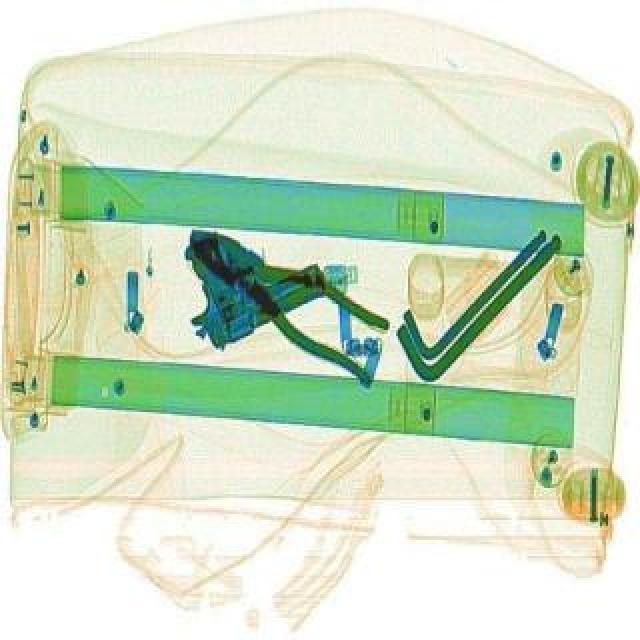gun: (150, 198, 334, 356)
wrench: (166, 198, 410, 392)
